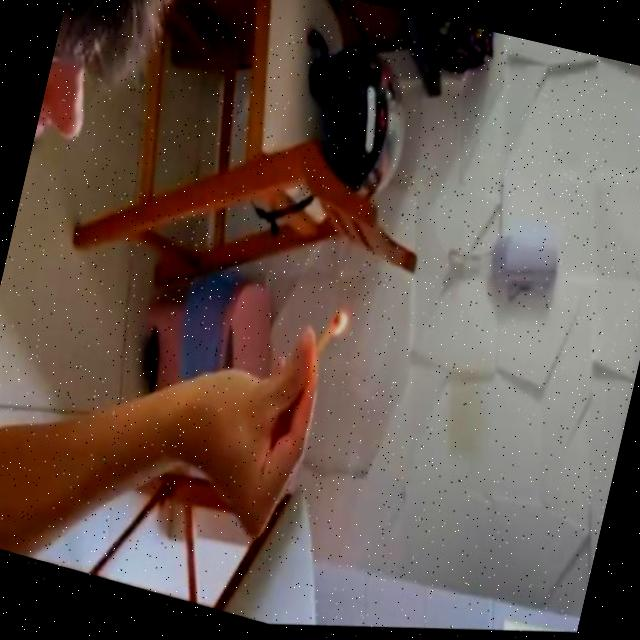fire: (324, 305, 356, 340)
